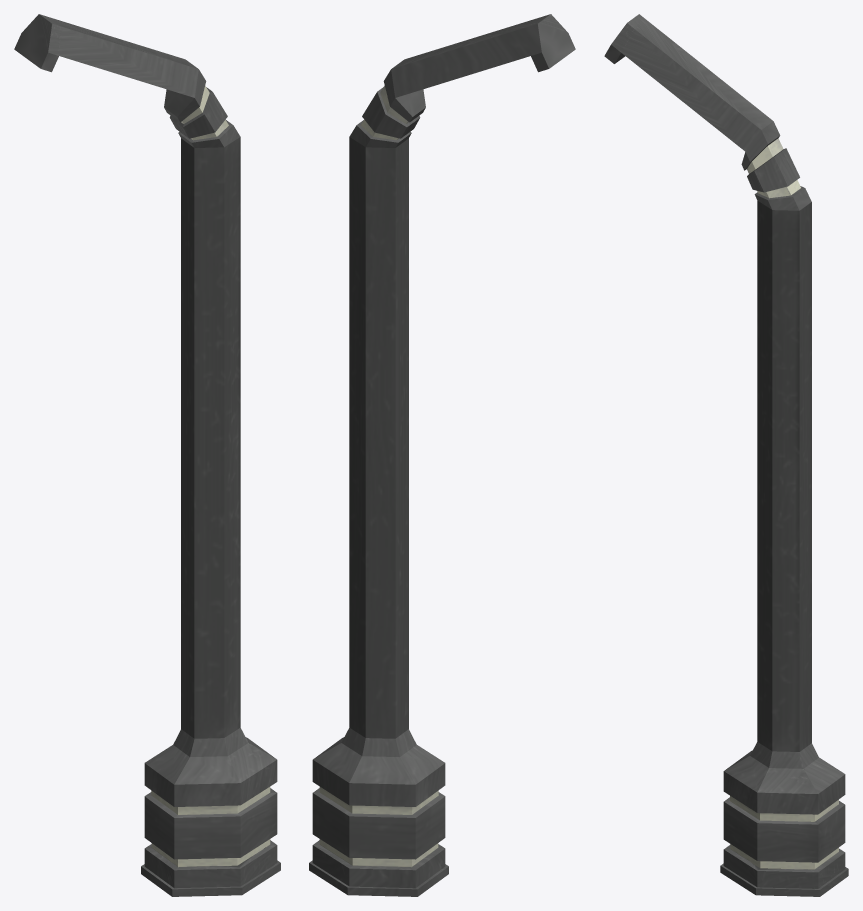
File: LampPost.obj
The picture shows the model from 3 angles, left to right: view 1: azimuth 30°, elevation 25°; view 2: azimuth 150°, elevation 25°; view 3: azimuth 330°, elevation 25°; orthographic projection. The views are drawn at different scales.
Parts seen in each view (by area): view 1: Cylinder; view 2: Cylinder; view 3: Cylinder.
Part boxes in pixels (x1,y1,x2,y2): Cylinder: [14, 14, 280, 896]; Cylinder: [309, 14, 575, 896]; Cylinder: [604, 14, 848, 896].
Bounding box in the file's own units: 3.46 × 12.43 × 1.58.
1 material, 1 textured.
